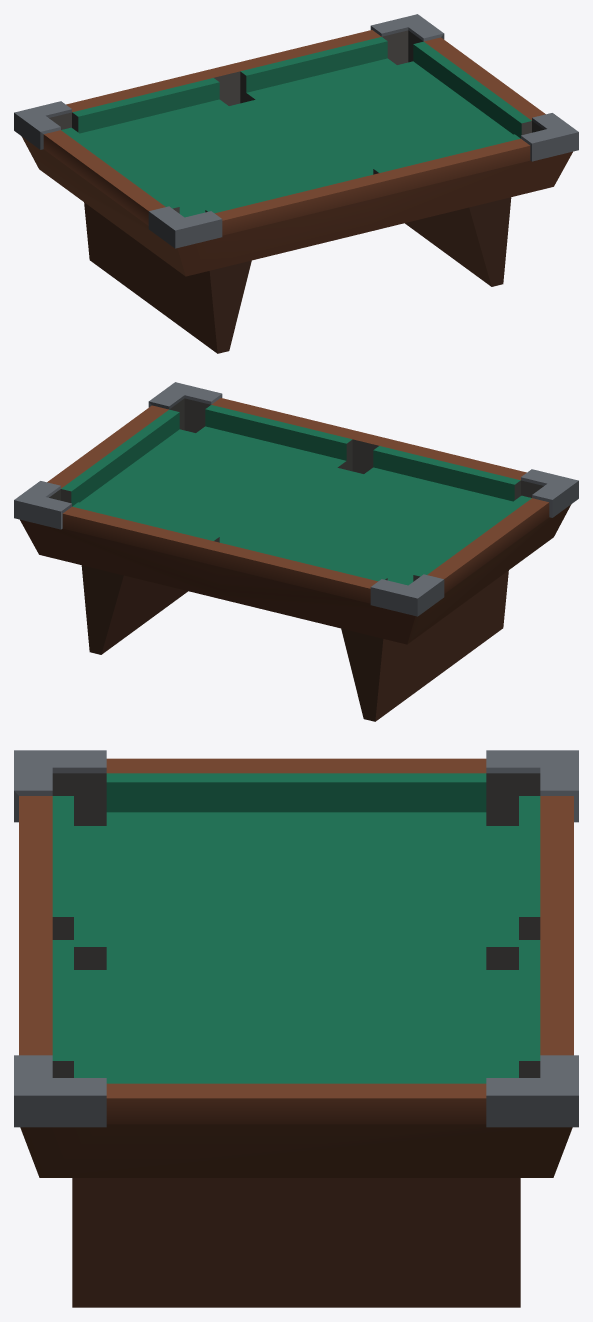
File: AI_Prop_PoolTable_Empty.fbx
The picture shows the model from 3 angles, top to bottom: view 1: azimuth 30°, elevation 25°; view 2: azimuth 150°, elevation 25°; view 3: azimuth 270°, elevation 25°; orthographic projection. The views are drawn at different scales.
Visible parts, largest first — view 1: AI_Prop_PoolTable_Empty; view 2: AI_Prop_PoolTable_Empty; view 3: AI_Prop_PoolTable_Empty.
Boxes of the visible parts, x1,y1,x2,y2 form: AI_Prop_PoolTable_Empty: (14,14,578,353); AI_Prop_PoolTable_Empty: (14,382,578,721); AI_Prop_PoolTable_Empty: (14,750,578,1307).
Size of the model in its own units: 4.45 by 1.58 by 3.07.
